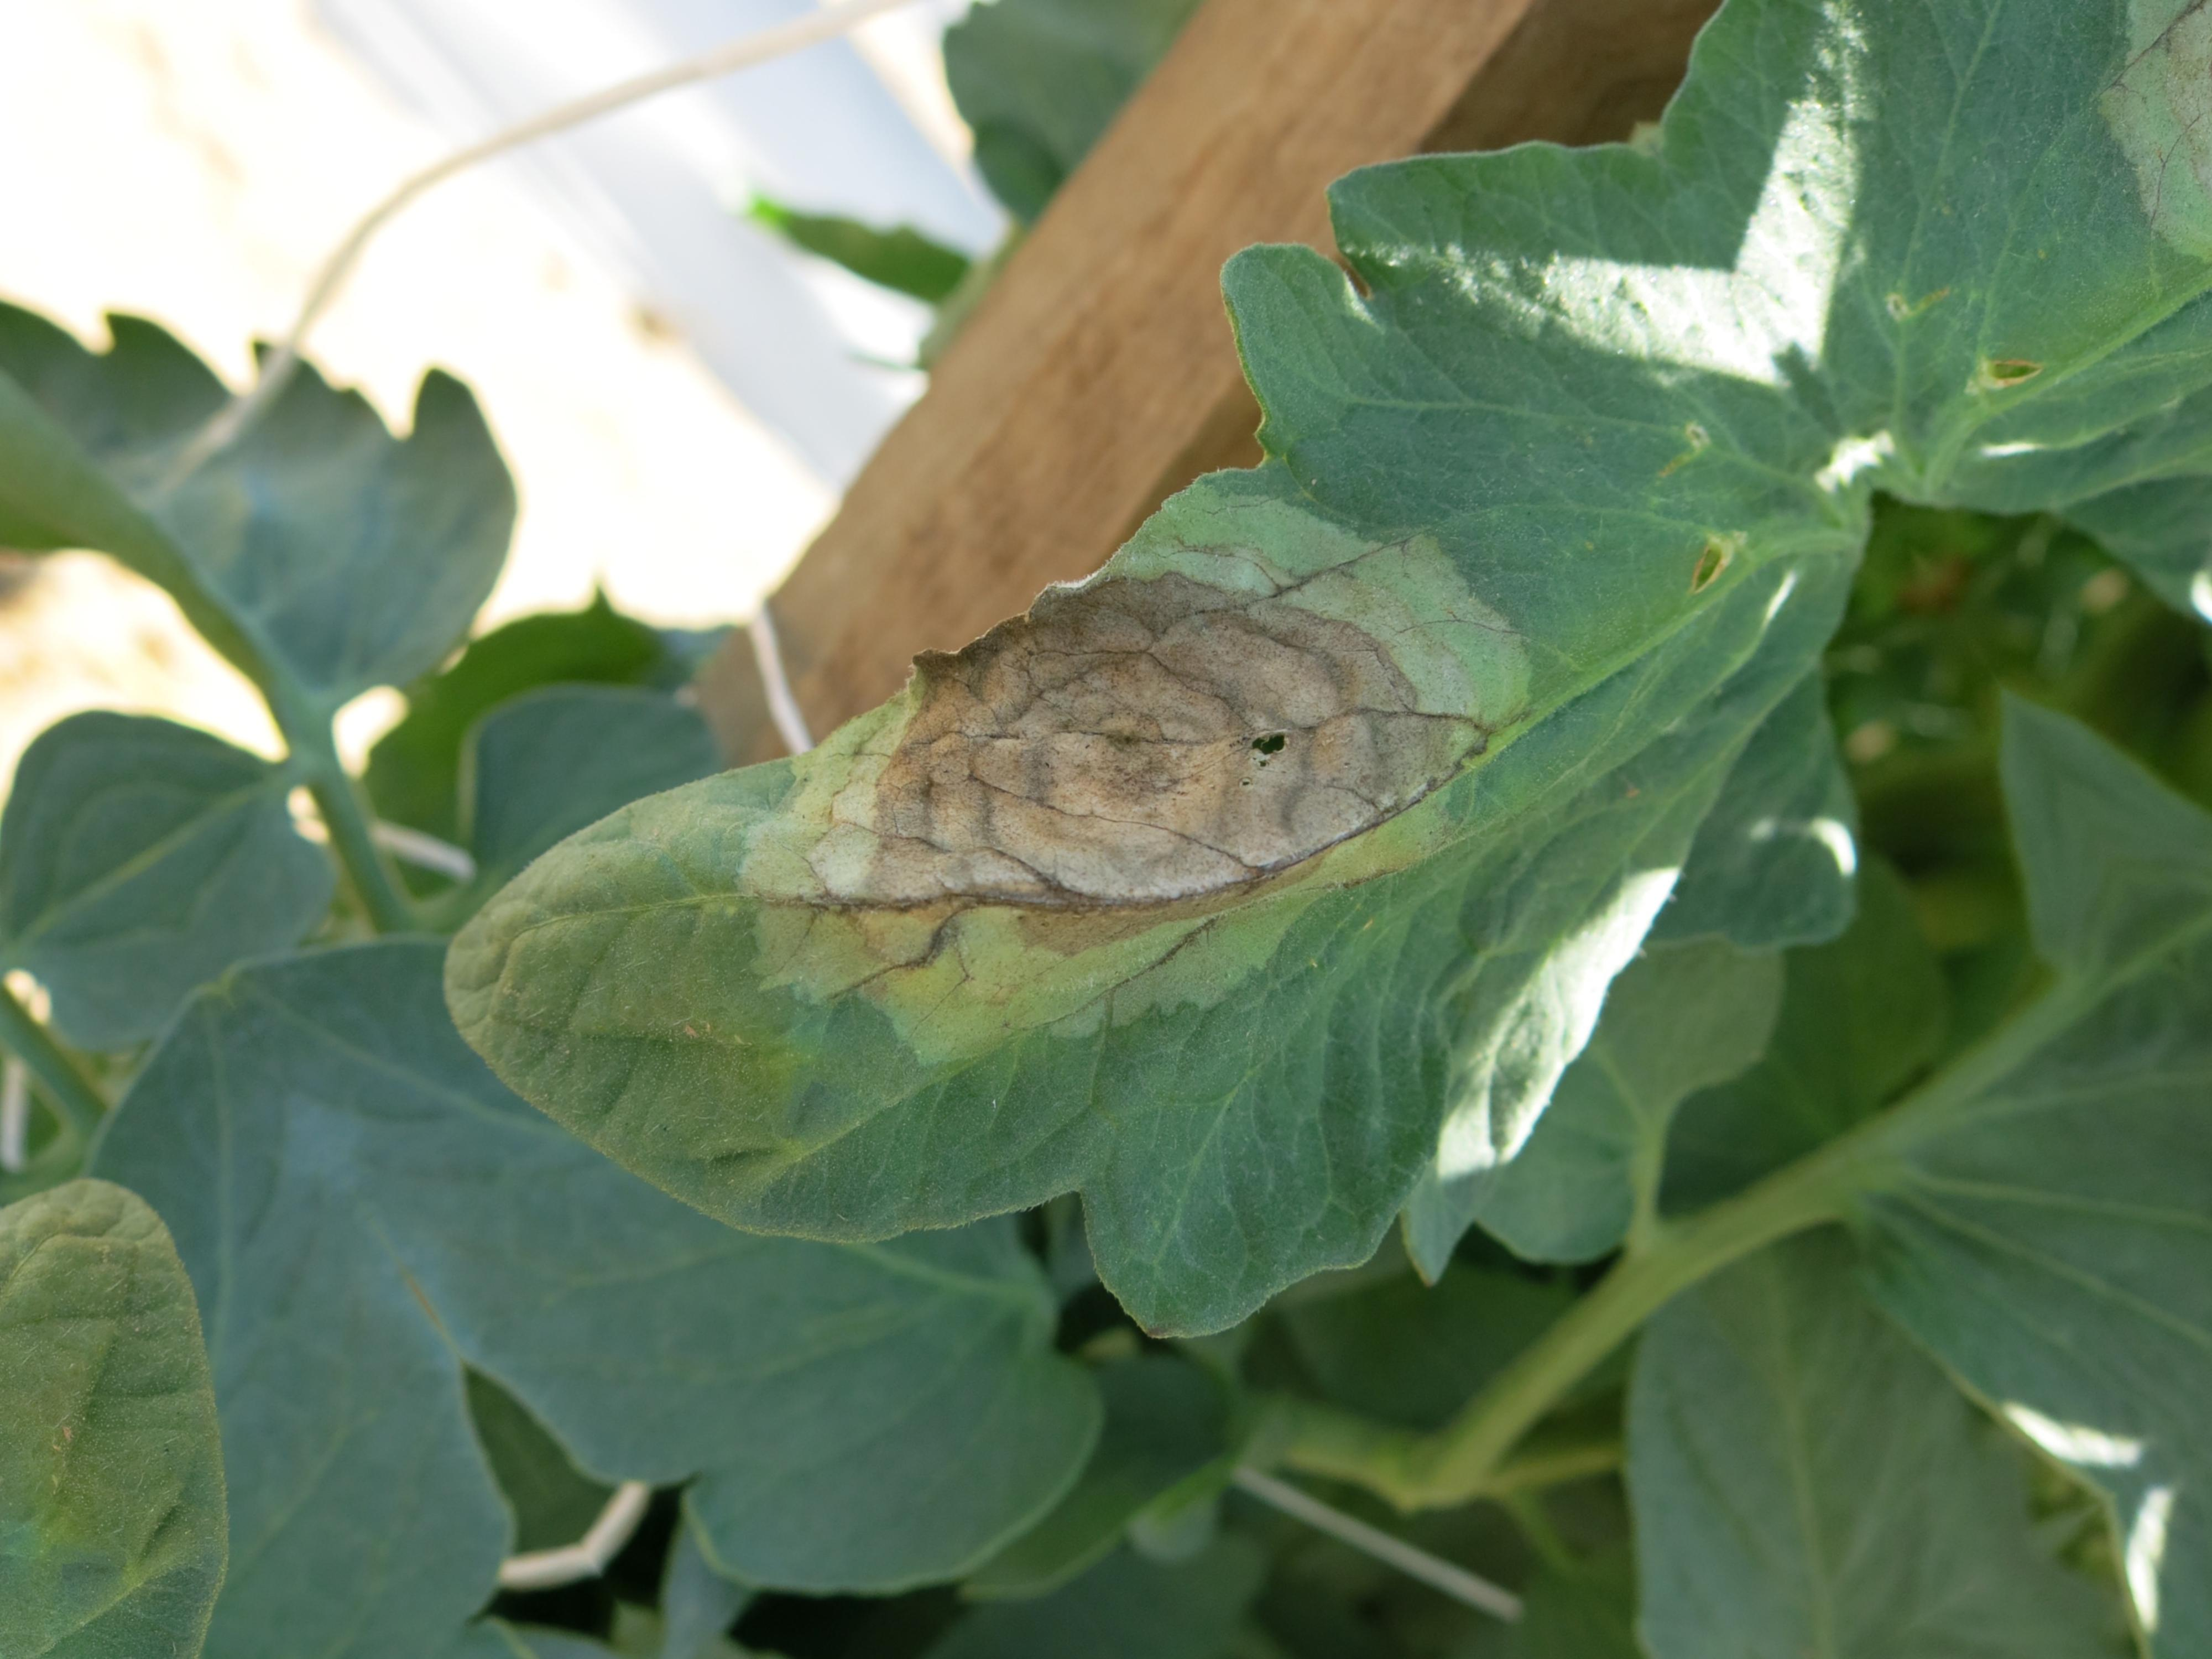Tomato leaf late blight: (280, 23, 2127, 1659)
